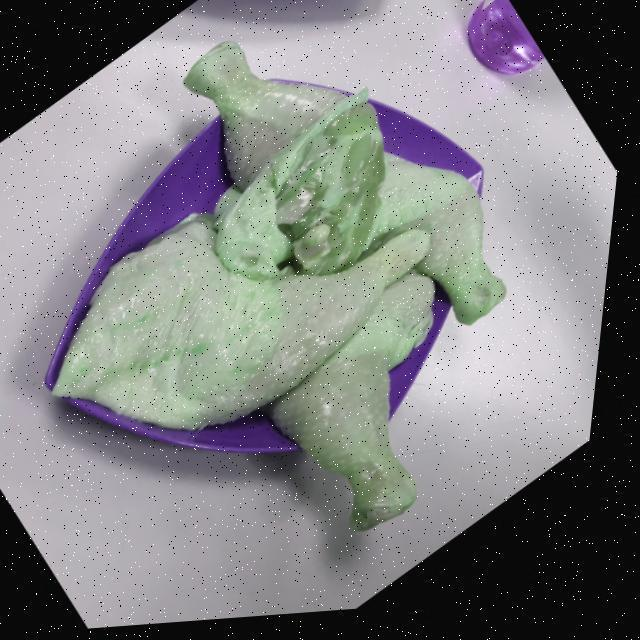quater: (36, 226, 437, 436), (258, 302, 454, 530), (193, 40, 378, 256), (361, 153, 508, 323)
